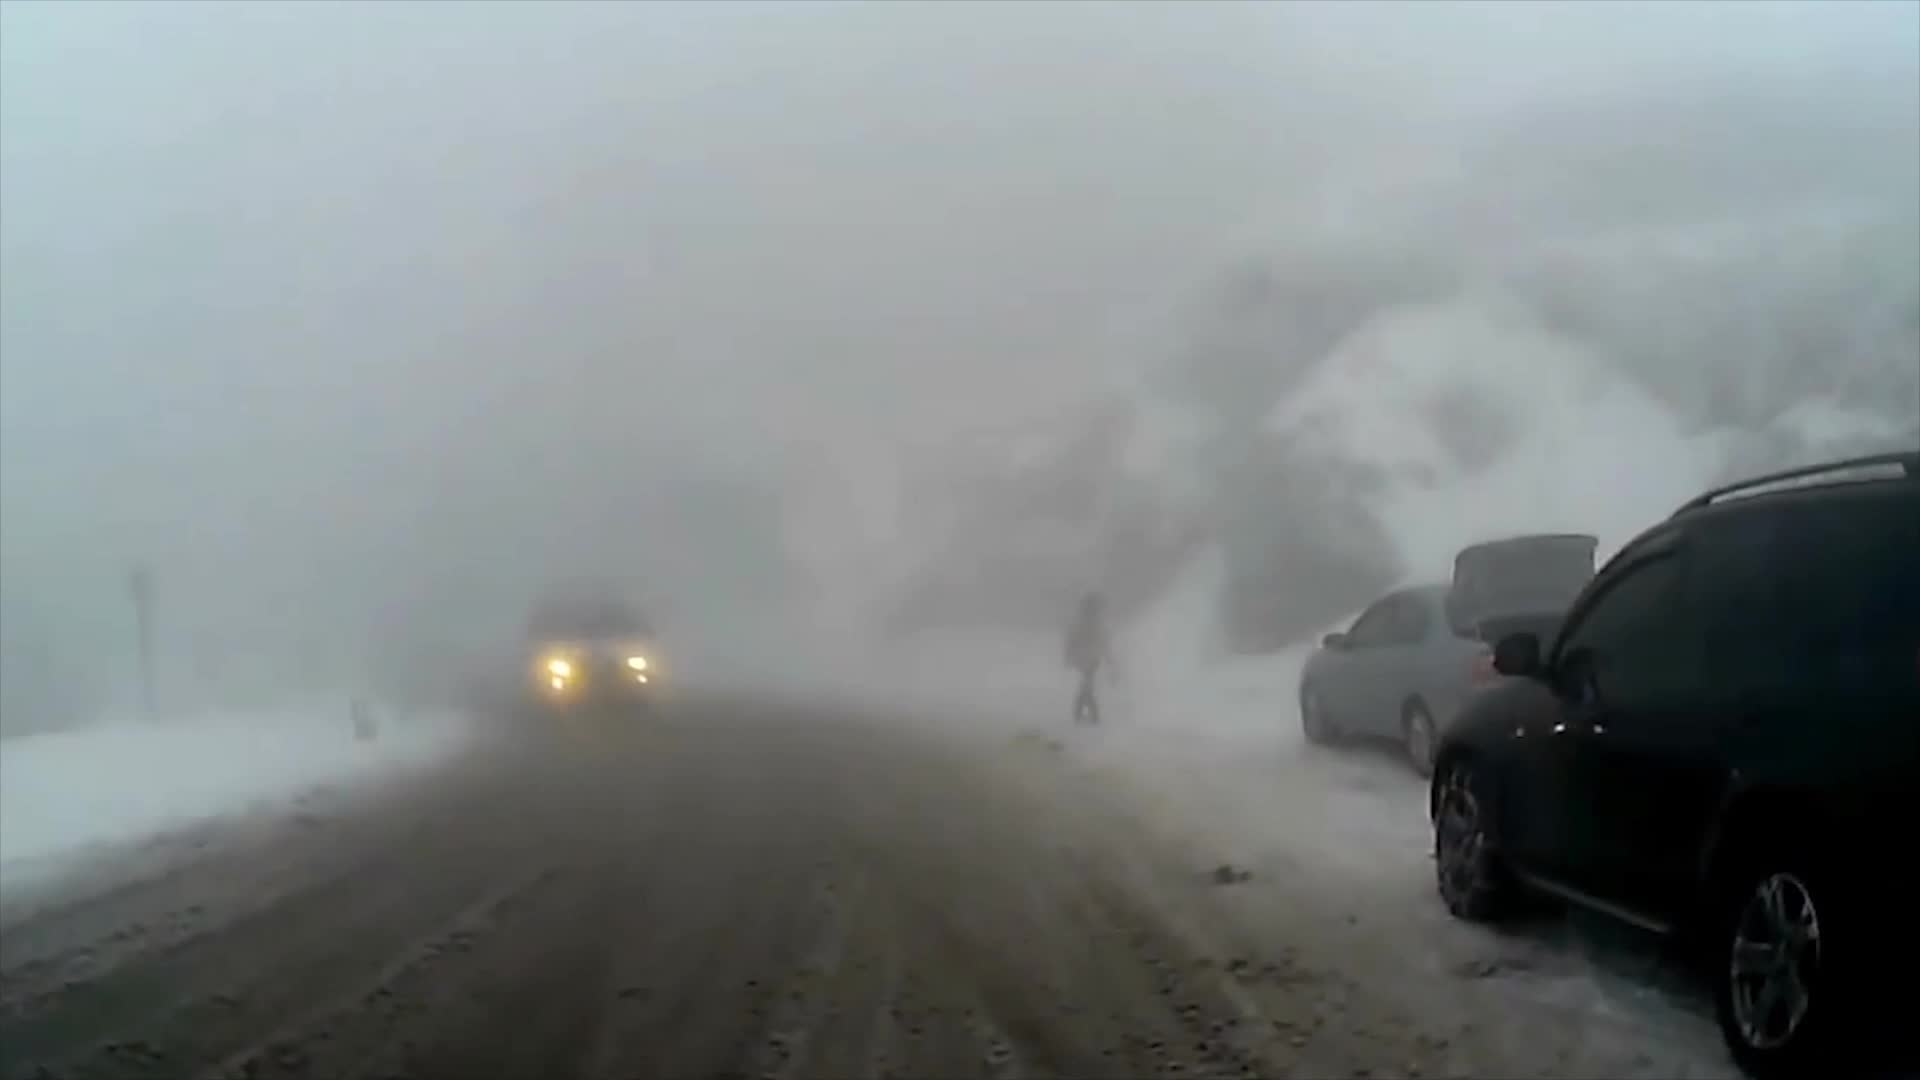pedestrian: (1068, 597, 1116, 724)
vehicle: (1426, 447, 1920, 1080), (1296, 531, 1653, 781), (522, 584, 662, 726)
